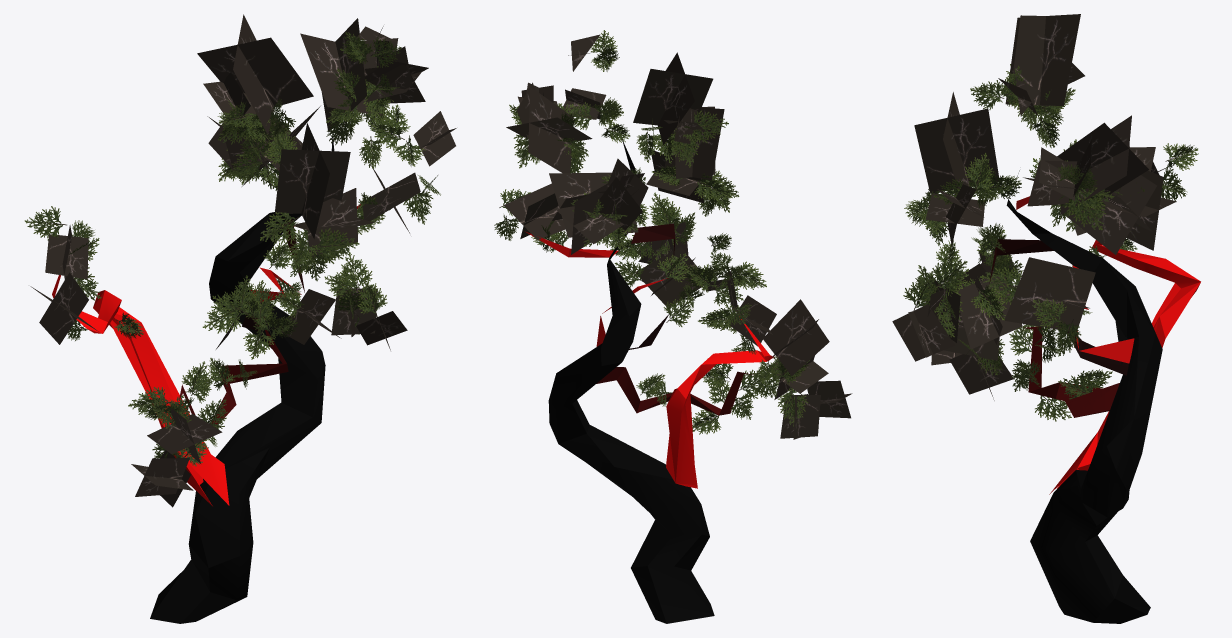
Rendered from cpine1 lod2.FBX.
3 renders of one model, left to right at view 1: azimuth 30°, elevation 25°; view 2: azimuth 150°, elevation 25°; view 3: azimuth 270°, elevation 25°, orthographic. The views are drawn at different scales.
Parts seen in each view (by area): view 1: cpine1_LOD2; view 2: cpine1_LOD2; view 3: cpine1_LOD2.
Boxes of the visible parts, x1,y1,x2,y2 form: cpine1_LOD2: [24, 14, 456, 623]; cpine1_LOD2: [494, 30, 852, 623]; cpine1_LOD2: [892, 14, 1200, 623].
Bounding box in the file's own units: 79977 × 114183 × 56167.
